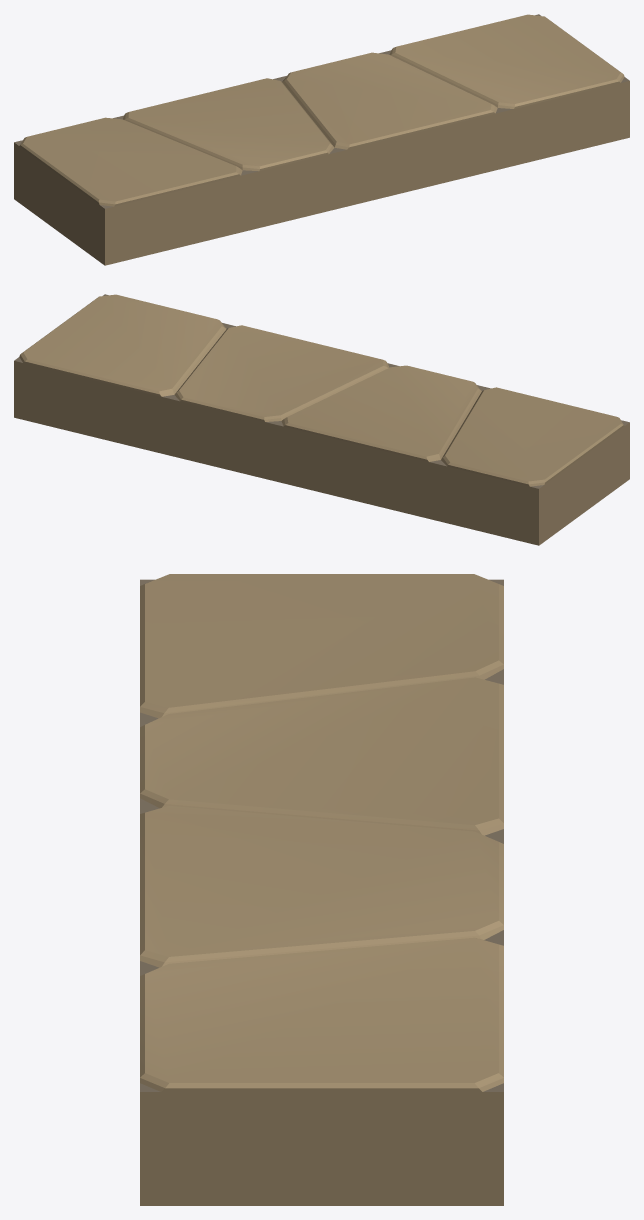
File: low-step.glb
The picture shows the model from 3 angles, top to bottom: view 1: azimuth 30°, elevation 25°; view 2: azimuth 150°, elevation 25°; view 3: azimuth 270°, elevation 25°; orthographic projection. The views are drawn at different scales.
Parts seen in each view (by area): view 1: low-step; view 2: low-step; view 3: low-step.
Part boxes in pixels (x1=…): low-step: x1=14, y1=14, x2=629, y2=265; low-step: x1=14, y1=294, x2=629, y2=545; low-step: x1=140, y1=574, x2=503, y2=1205.
Bounding box in the file's own units: 2 × 0.22 × 0.6.
